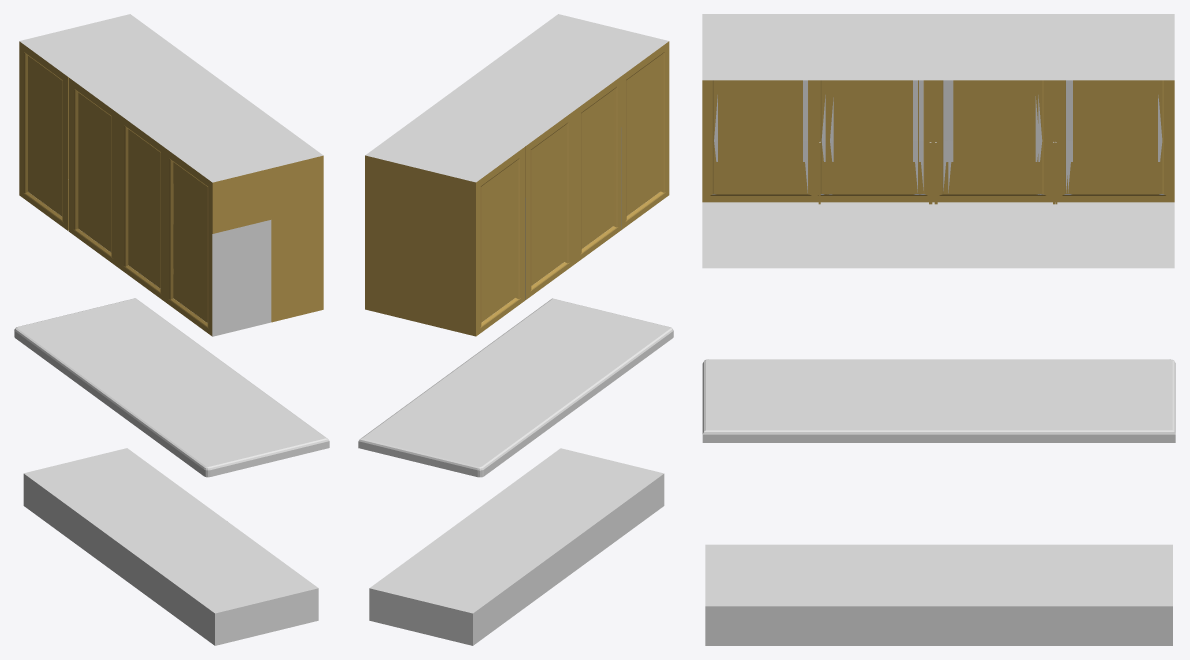
File: kitchen.fbx
The picture shows the model from 3 angles, left to right: view 1: azimuth 30°, elevation 25°; view 2: azimuth 150°, elevation 25°; view 3: azimuth 270°, elevation 25°; orthographic projection. The views are drawn at different scales.
Visible parts, largest first — view 1: kitchen.002, kitchen.001, Cube.033, masa ust; view 2: kitchen.001, kitchen.002, Cube.033, masa ust; view 3: kitchen.001, kitchen.002, Cube.033, masa ust.
Part boxes in pixels (x1,y1,x2,y2): kitchen.002: (20,14,323,336); kitchen.001: (19,14,278,304); Cube.033: (23,448,318,645); masa ust: (14,298,329,477); kitchen.001: (365,46,625,336); kitchen.002: (366,14,669,335); Cube.033: (369,448,664,645); masa ust: (358,298,673,477); kitchen.001: (809,14,1174,268); kitchen.002: (702,14,1173,268); Cube.033: (705,544,1172,645); masa ust: (702,359,1175,442).
Size of the model in its own units: 8.01 by 28.88 by 21.82.
